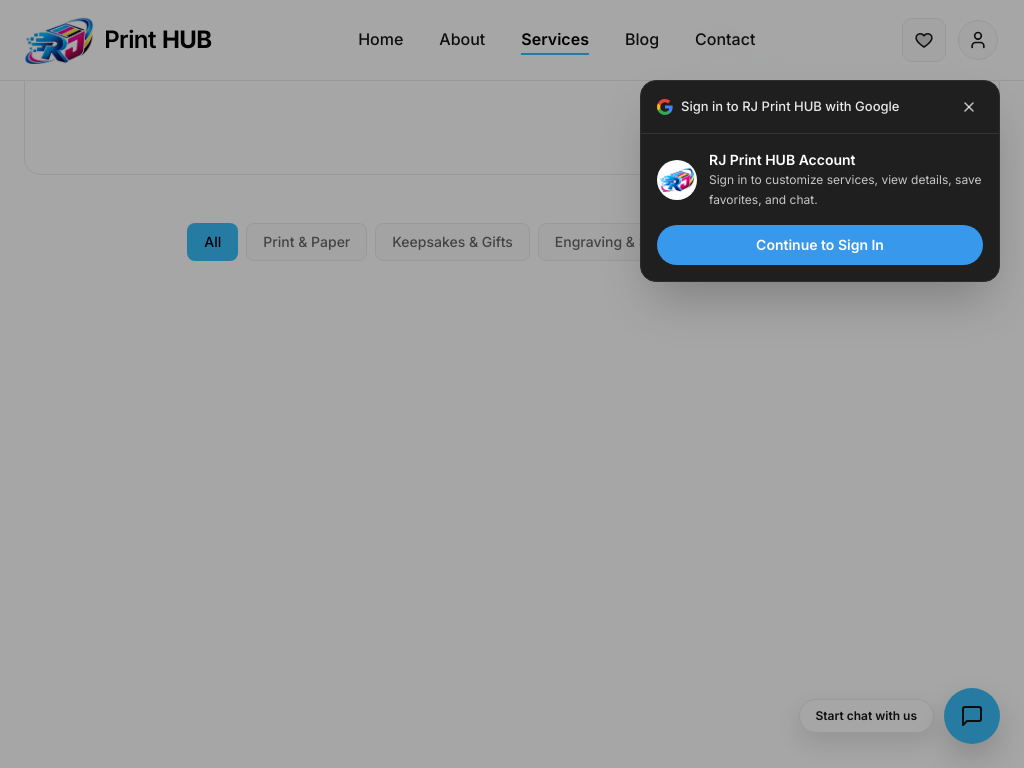
Test: RJ HUB Printing public website (customer-only, zero admin routes or demo records) › gates services, studio customization, and chat behind Sign-In prompt card for signed-out guests
Earlier steps of the test are not shown.
(page scrolled)
Step 1. Click the button named "close sign-in prompt" → (969, 107), box [955,93,983,121]
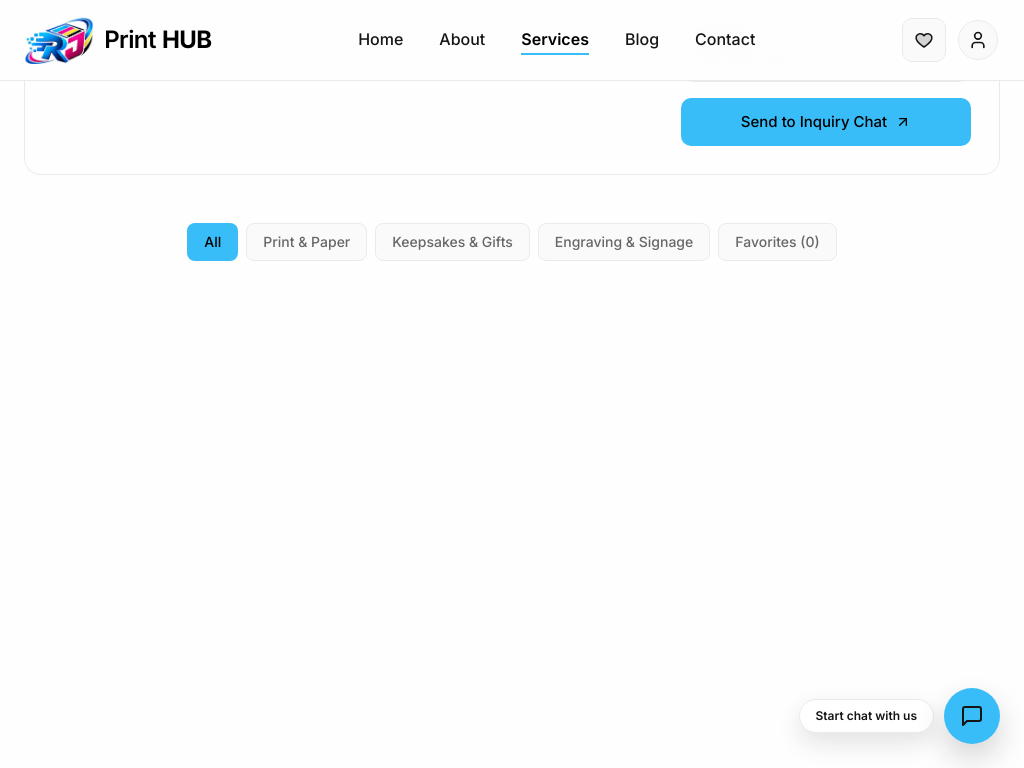
Step 2. Click the button "Send to Inquiry Chat" → (826, 122), box [681,98,971,146]
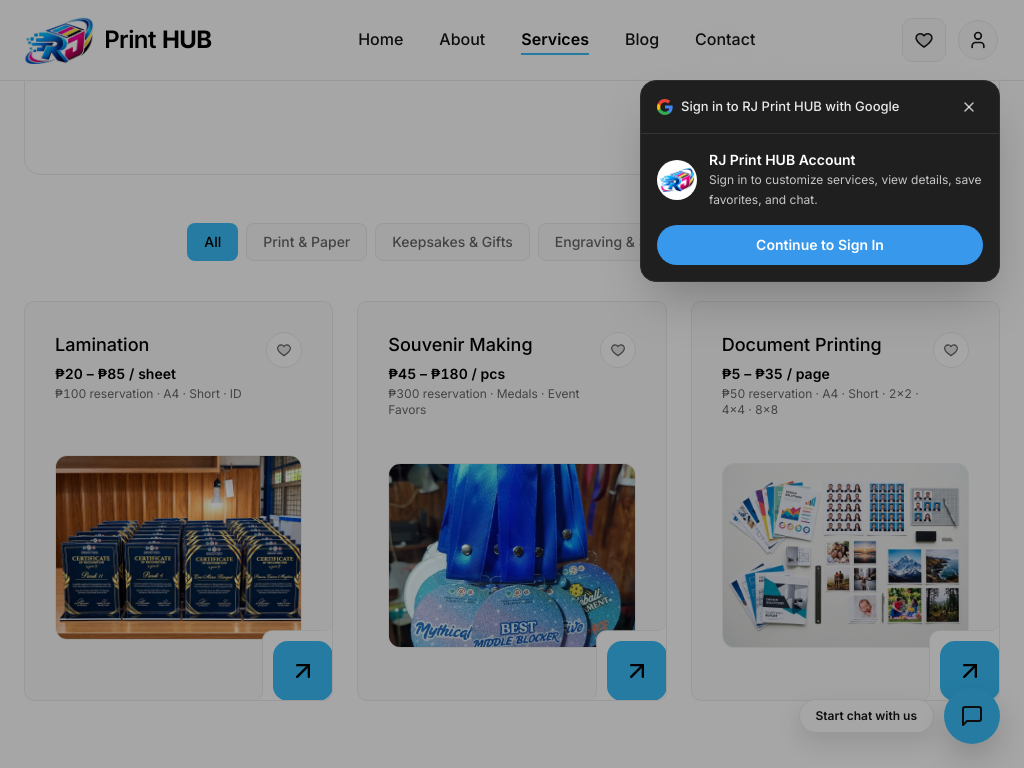
Now the dialog "Sign in to RJ Print HUB with Google" is shown
